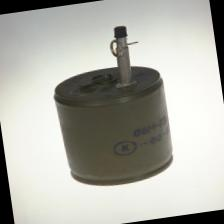OZM-72: (46, 26, 182, 192)
